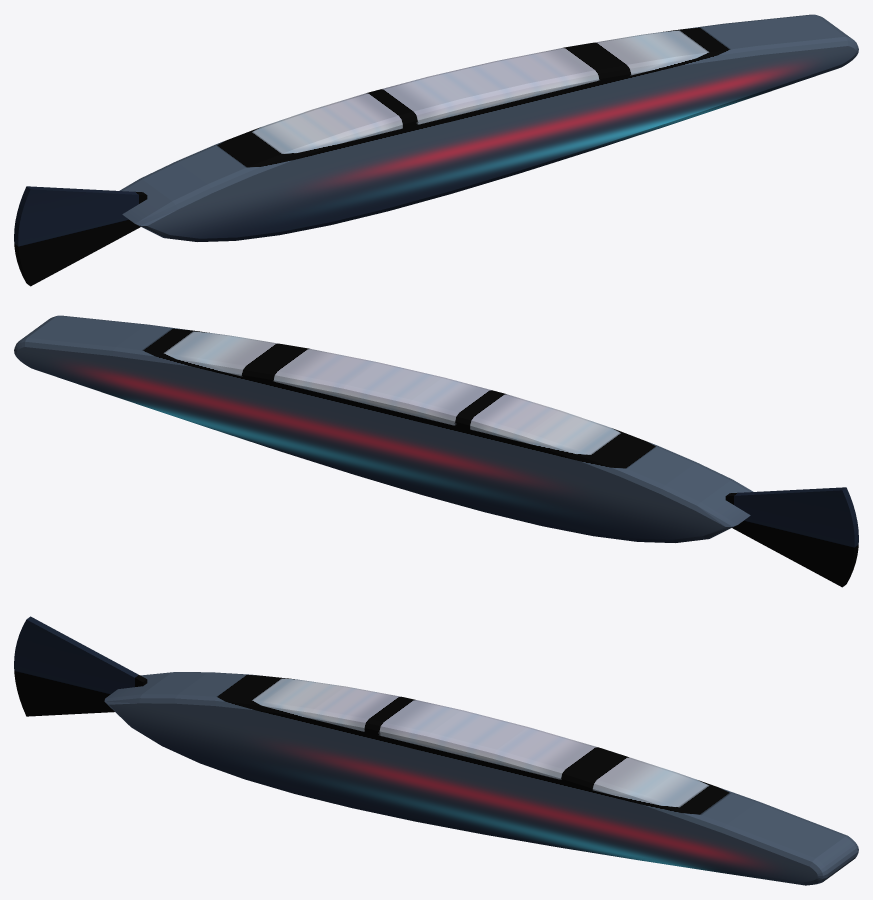
The model's file is fish-neon-school.glb.
3 renders of one model, top to bottom at view 1: azimuth 30°, elevation 25°; view 2: azimuth 150°, elevation 25°; view 3: azimuth 330°, elevation 25°, orthographic.
Bounding box in the file's own units: 2.39 × 0.2688 × 0.192.
Materials: 1 (1 with a texture image).
